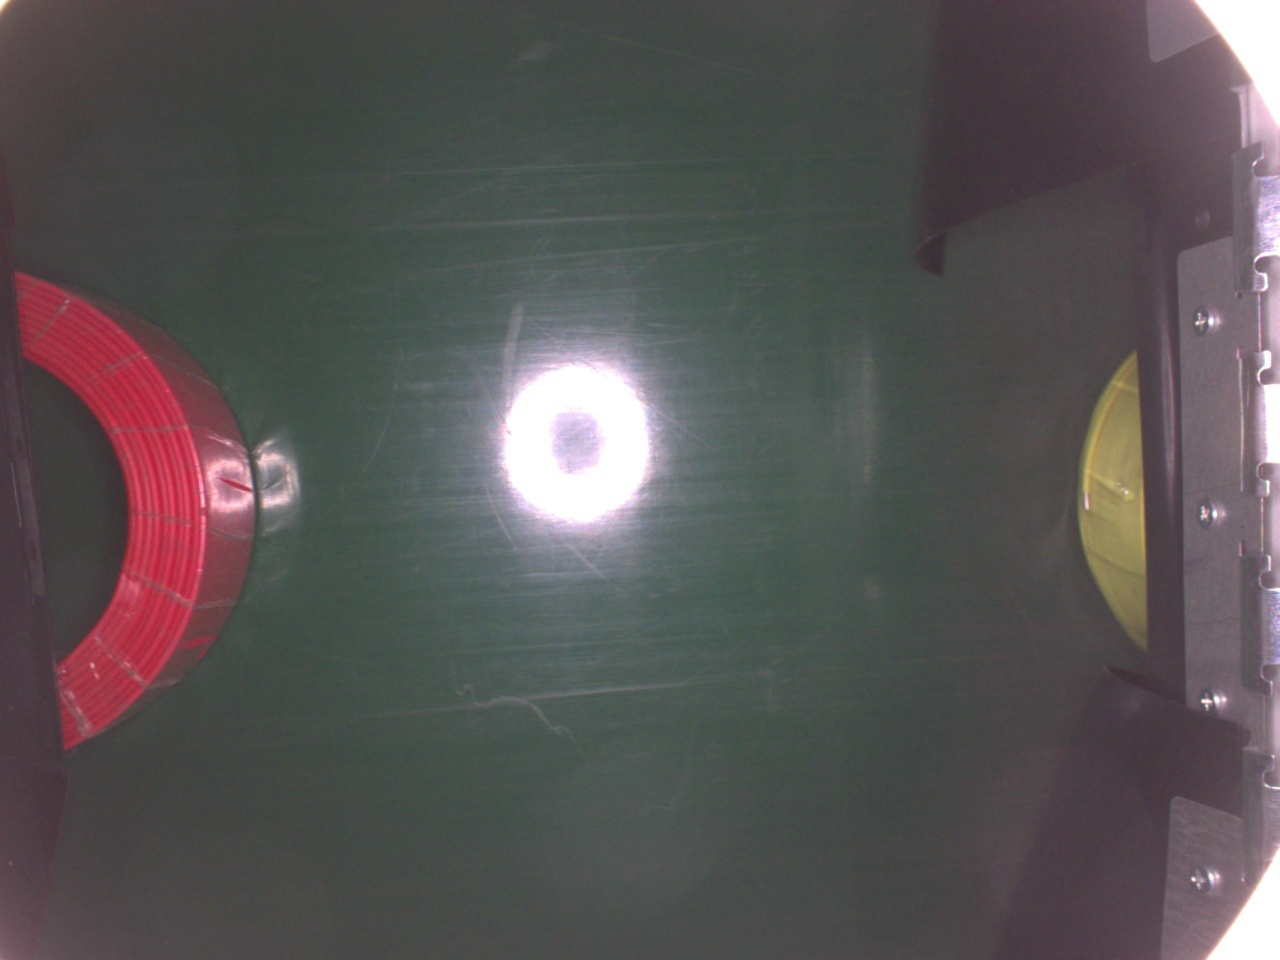red: (11, 258, 256, 754)
